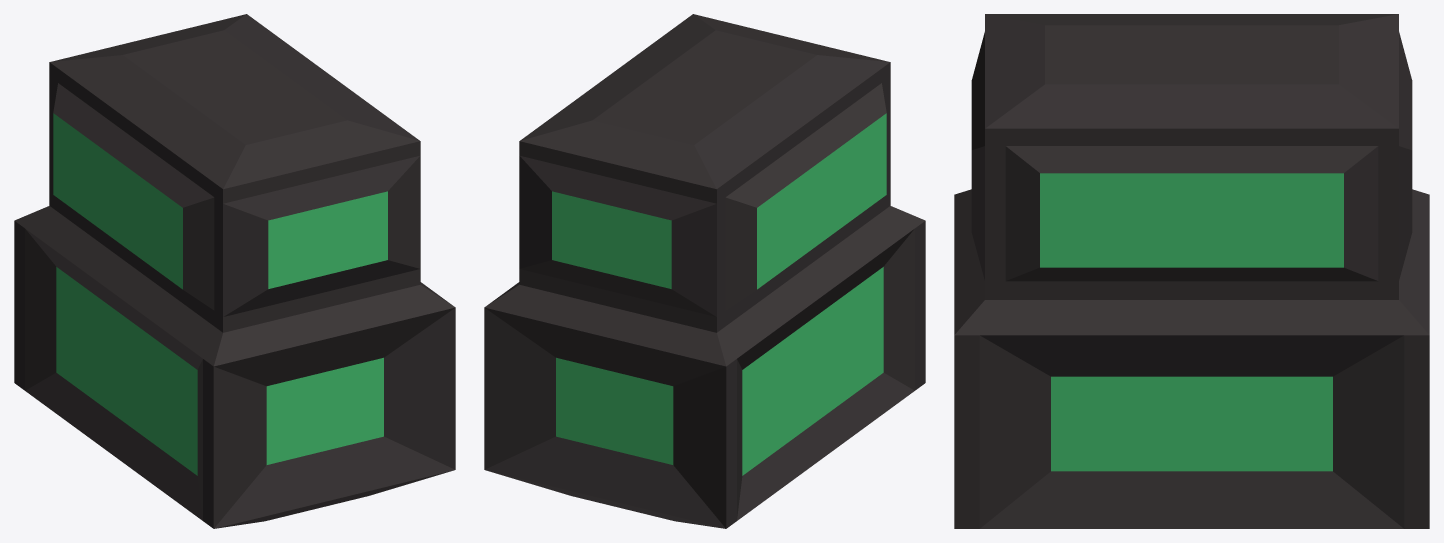
The model's file is Body3.fbx.
The picture shows the model from 3 angles, left to right: view 1: azimuth 30°, elevation 25°; view 2: azimuth 150°, elevation 25°; view 3: azimuth 270°, elevation 25°; orthographic projection. The views are drawn at different scales.
Visible parts, largest first — view 1: Body3; view 2: Body3; view 3: Body3.
Part boxes in pixels (bbox=[...]): Body3: bbox=[14, 14, 455, 528]; Body3: bbox=[484, 14, 925, 528]; Body3: bbox=[954, 14, 1429, 528].
Size of the model in its own units: 245 by 349 by 350.
